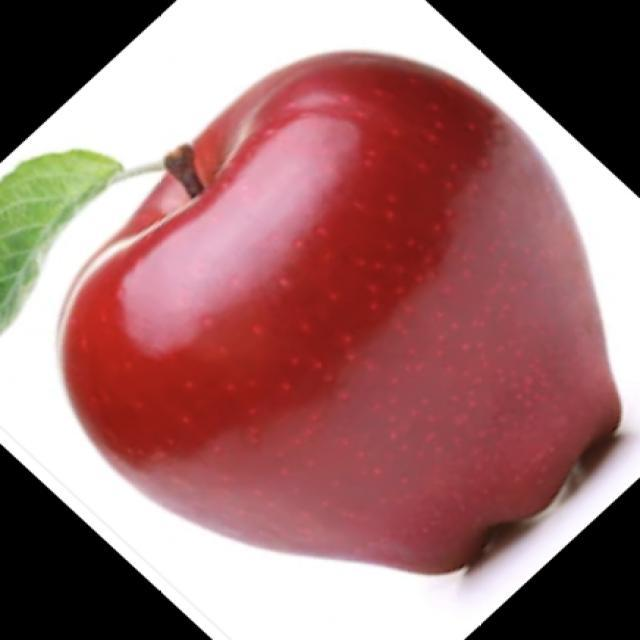Fresh Apple: (72, 55, 603, 573)
